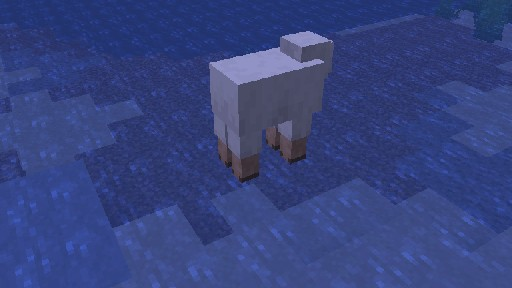sheep: (208, 30, 333, 182)
